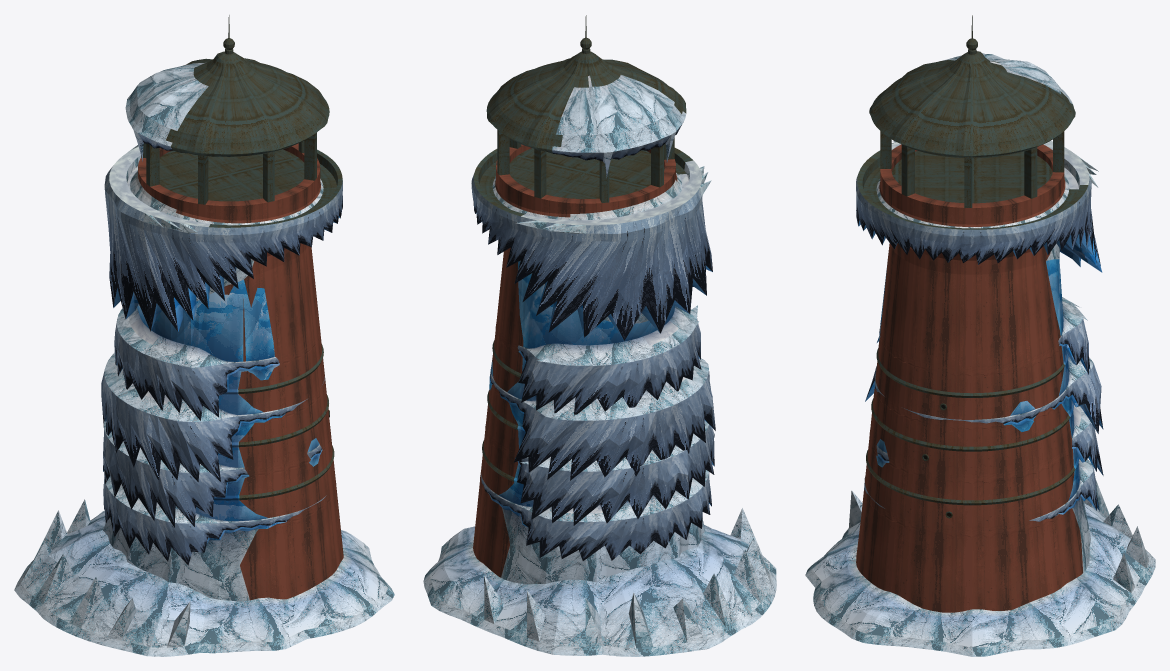
File: ice_tower.glb
The picture shows the model from 3 angles, left to right: view 1: azimuth 30°, elevation 25°; view 2: azimuth 150°, elevation 25°; view 3: azimuth 270°, elevation 25°; orthographic projection. The views are drawn at different scales.
Visible parts, largest first — view 1: IceTower; view 2: IceTower; view 3: IceTower.
Part boxes in pixels (box(x1,y1,x2,y2)): IceTower: box(14, 15, 394, 656); IceTower: box(423, 15, 776, 656); IceTower: box(805, 15, 1155, 656).
Size of what is drawn, in the model's own units: 31.33 by 53.65 by 29.7.
Materials: 7 (7 with a texture image).
